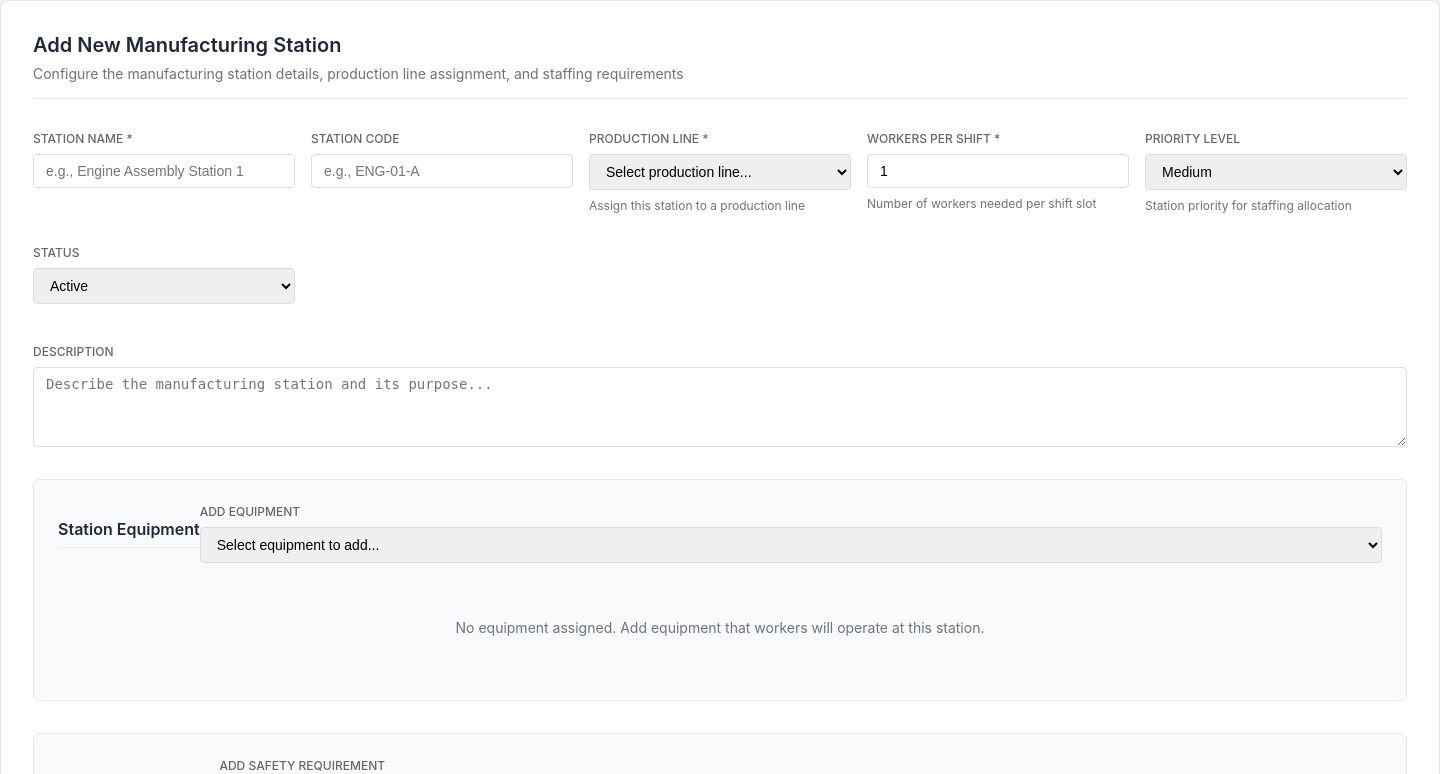
it: StationForm › allows adding and removing equipment
# Add equipment
Select "Robotic Welder #1 (robot) - operational" in the dropdown labelled "Add Equipment" at (791, 545), box [200,527,1382,563]
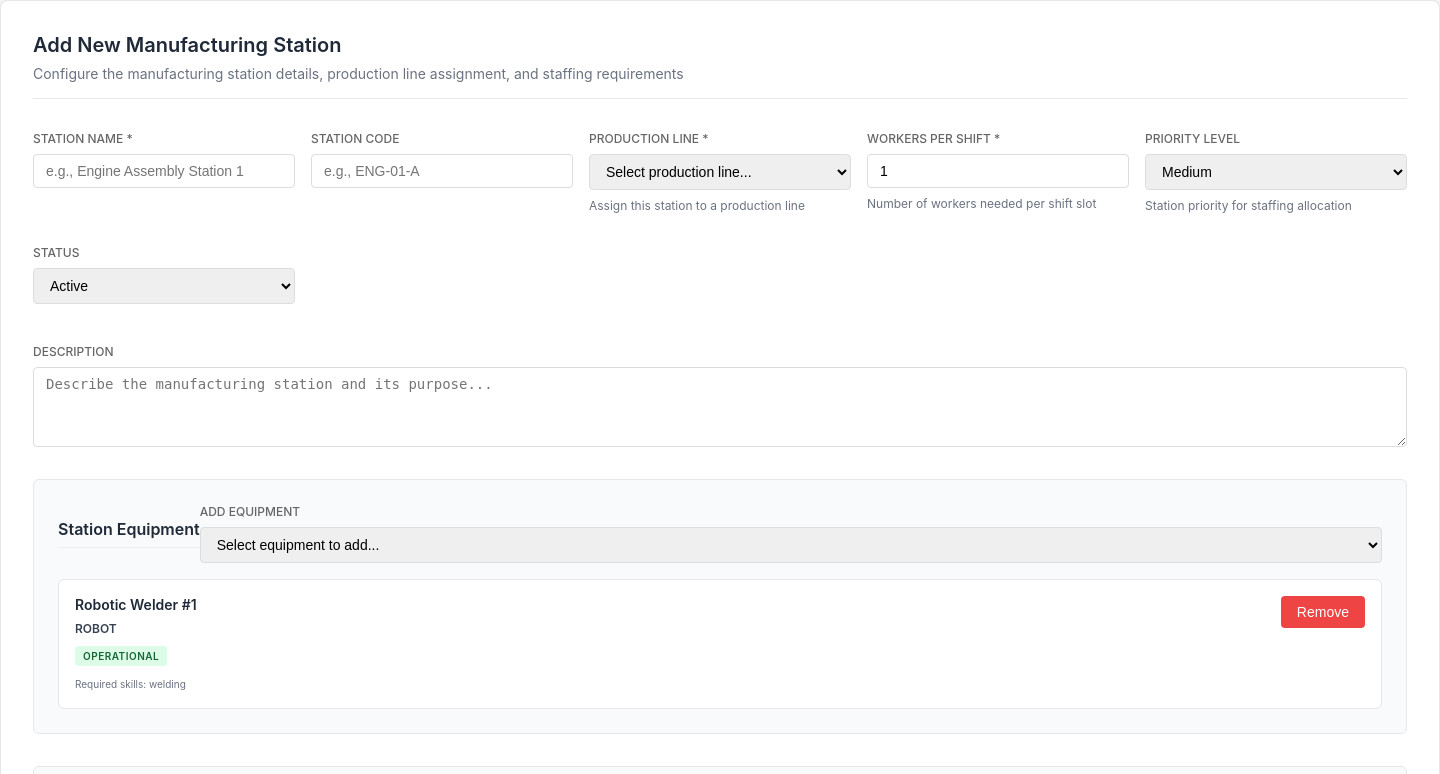
expect the heading "Robotic Welder #1" is shown: met, box [75,596,197,613]
# Remove equipment
Click the button "Remove".
click(1323, 612)  # box [1281,596,1365,628]
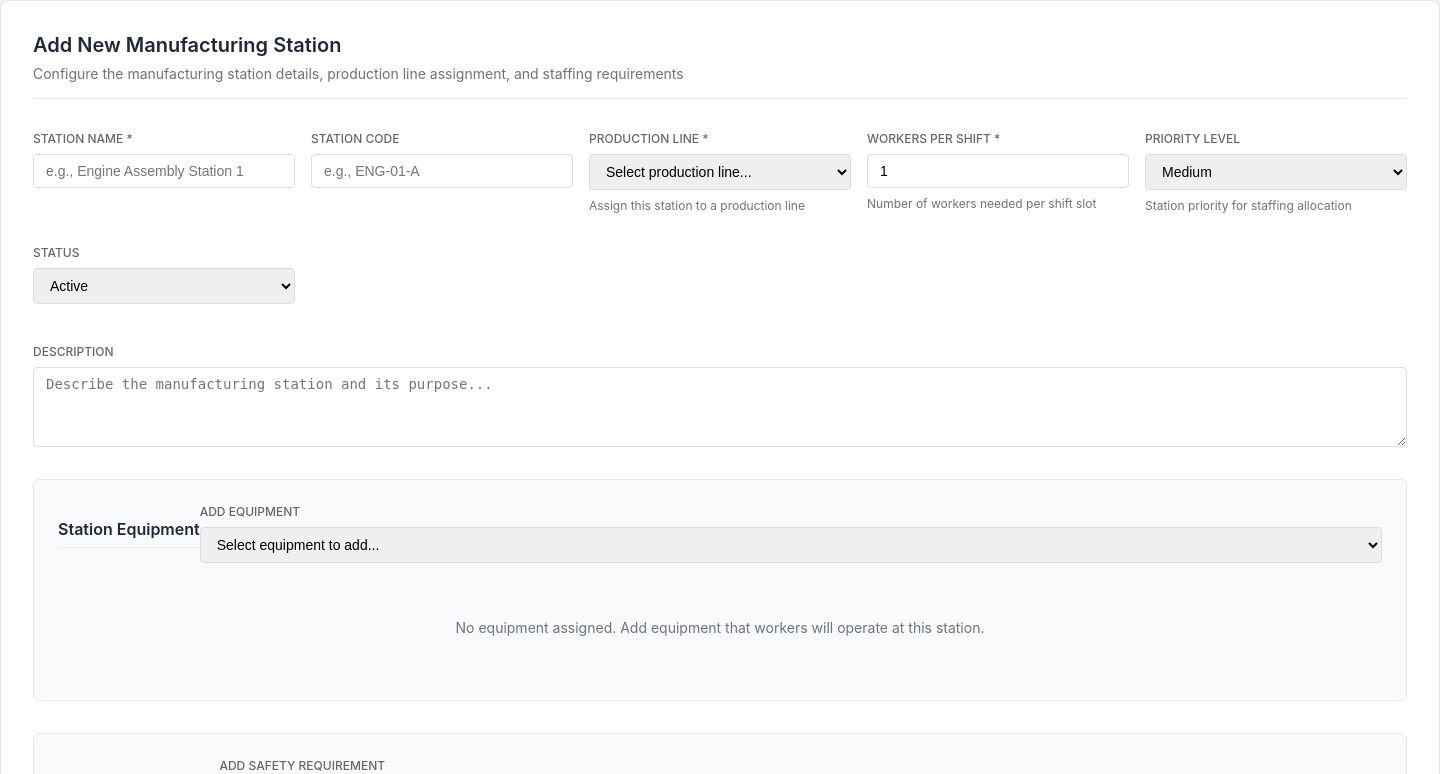
expect the heading "Robotic Welder #1" is gone: met
